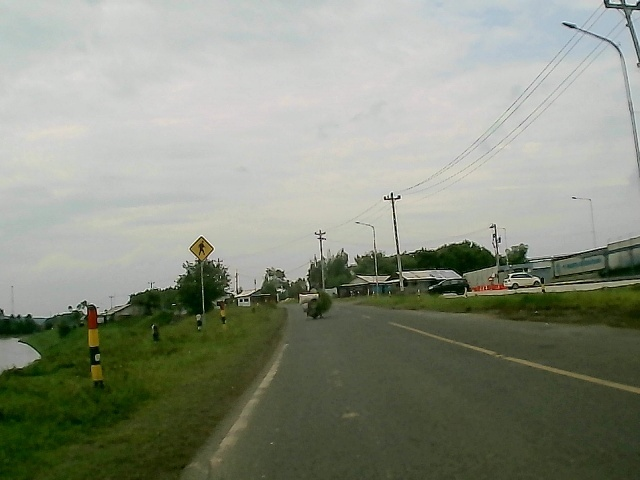Peringatan orang menyeberang: (188, 234, 216, 261)
